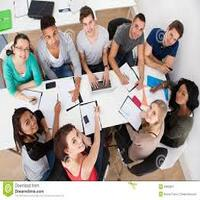person: (52, 114, 97, 168), (28, 5, 70, 58), (8, 105, 50, 153), (149, 11, 187, 57), (134, 97, 172, 143), (73, 2, 109, 44), (168, 73, 200, 114), (3, 31, 33, 72), (120, 13, 147, 58)
